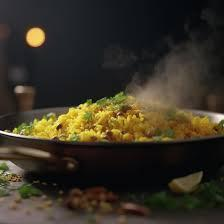poha: (5, 84, 224, 150)
